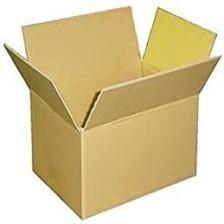cardboard: (18, 6, 210, 214)
